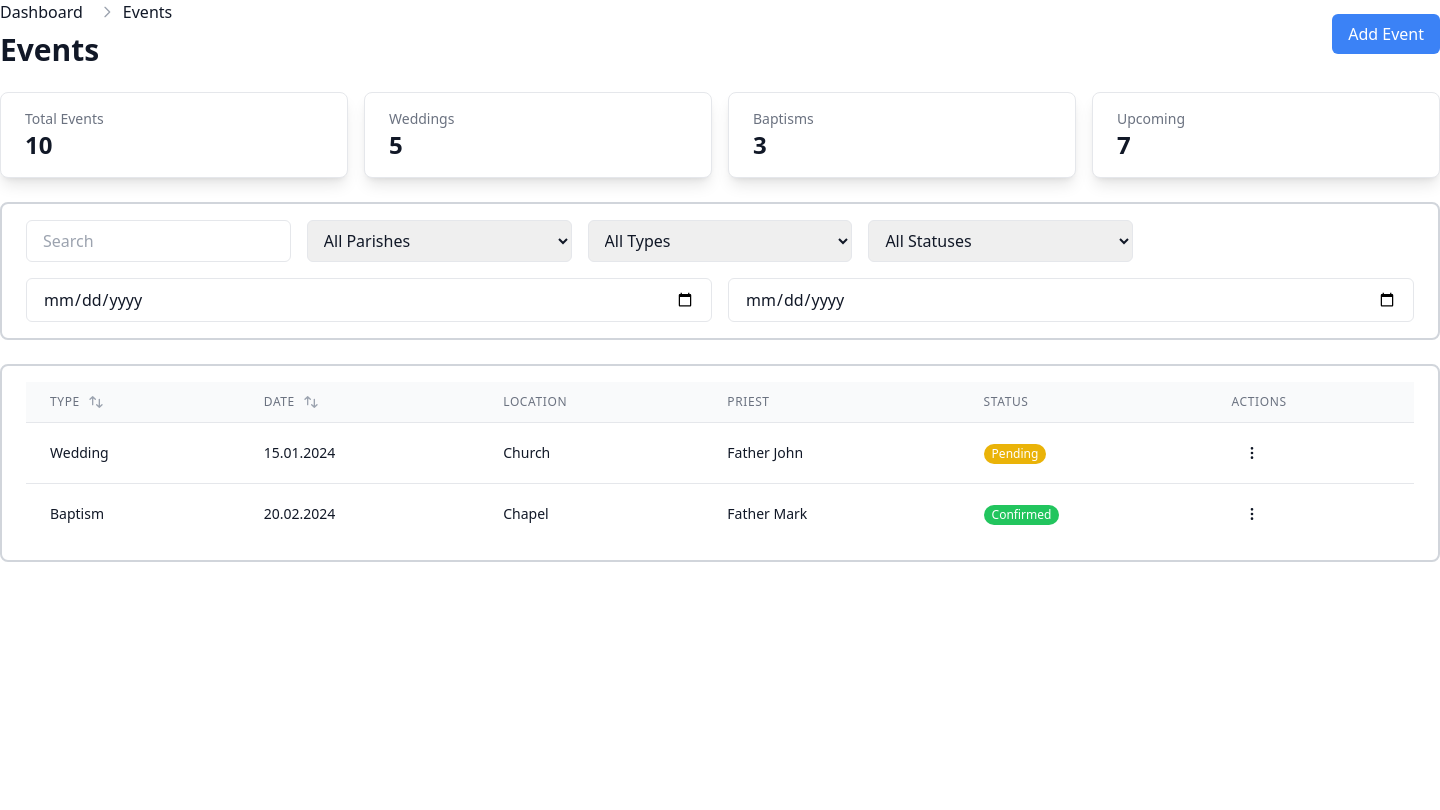
Test: EventsPageContent › Add Event Modal › should open add modal when add button is clicked
The image size is (1440, 810).
Click the button "Add Event". click: coordinates (1386, 34)
box: [1332,14,1439,54]
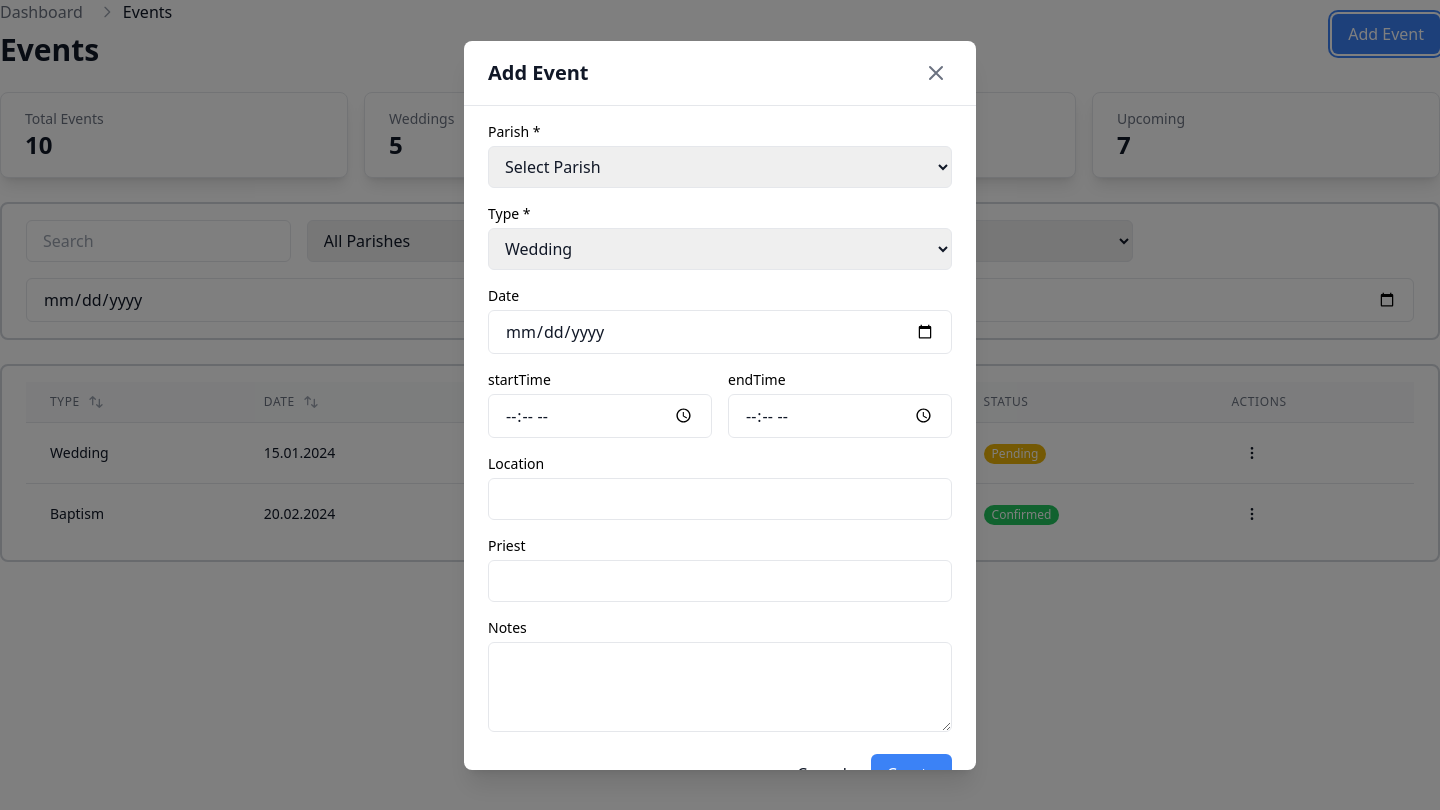
Now the heading "Add Event" is shown, box [488,58,588,86]
